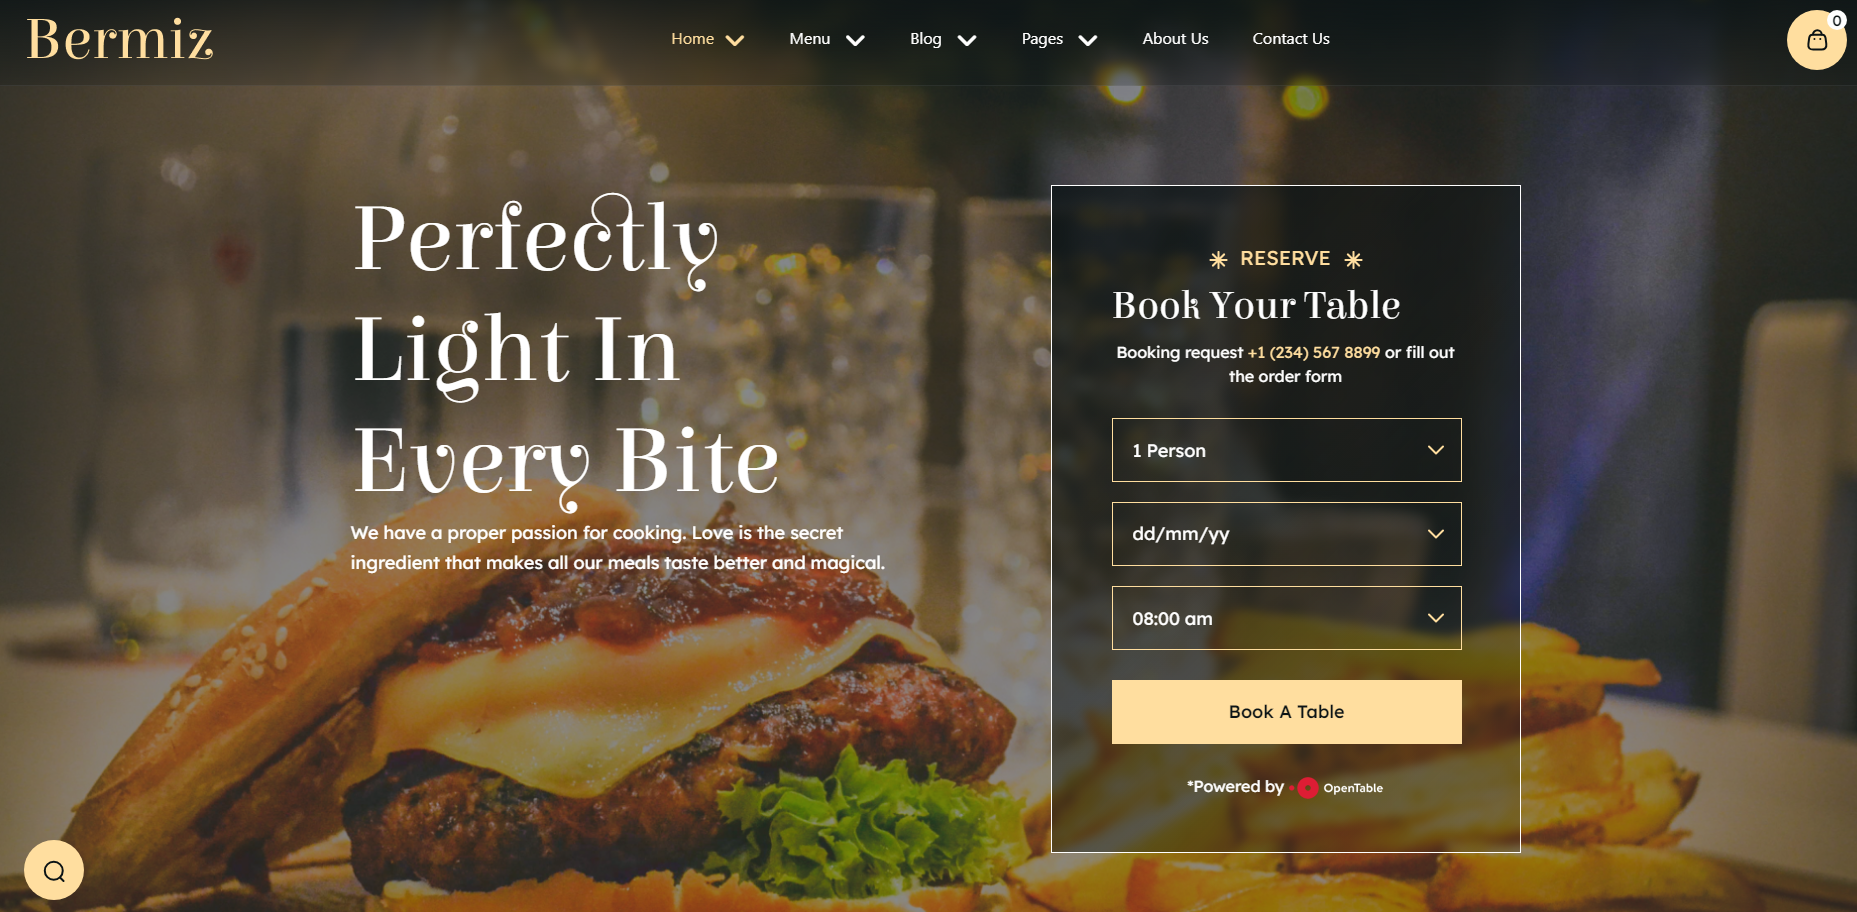menu-bar: (2, 2, 1844, 168)
